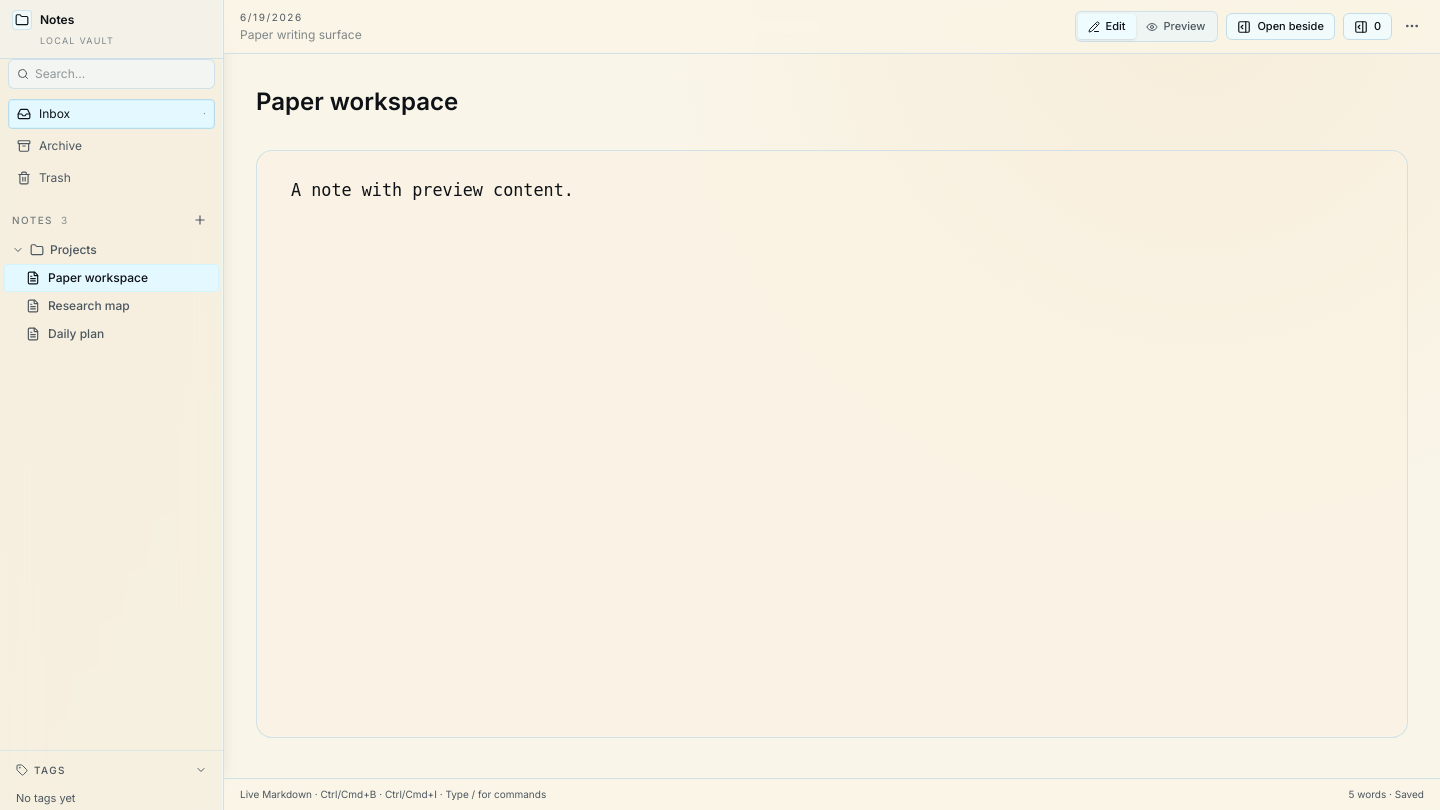
Scenario: NotesPage › applies note lifecycle actions to the active split pane
Expected: the field showing "Paper workspace" is shown, [256,86,1408,118]
Right-click the button "Research map" at (112, 306), box [4,292,219,320]
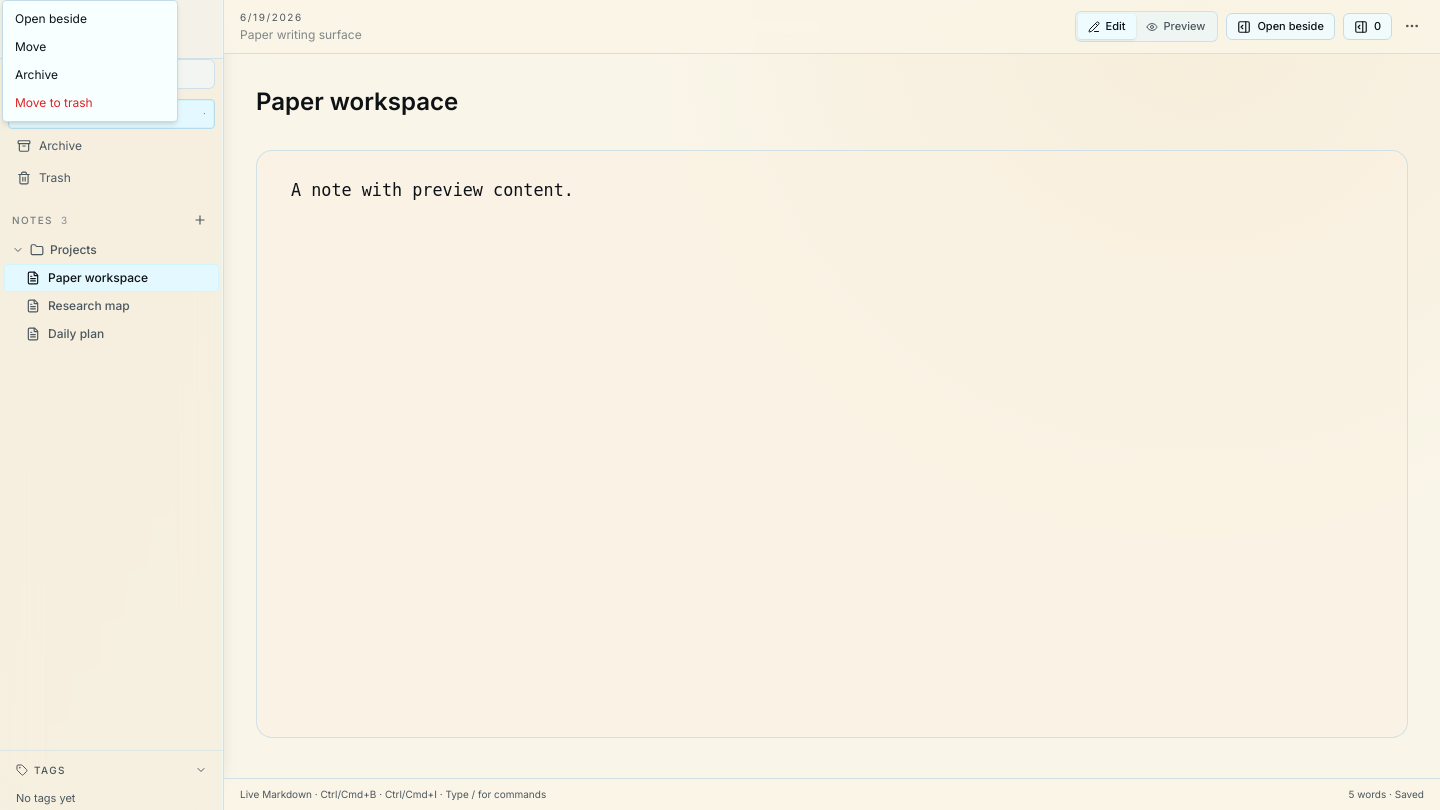
Click the menu item "Open beside". click: (51, 18)
box: [15,11,87,26]
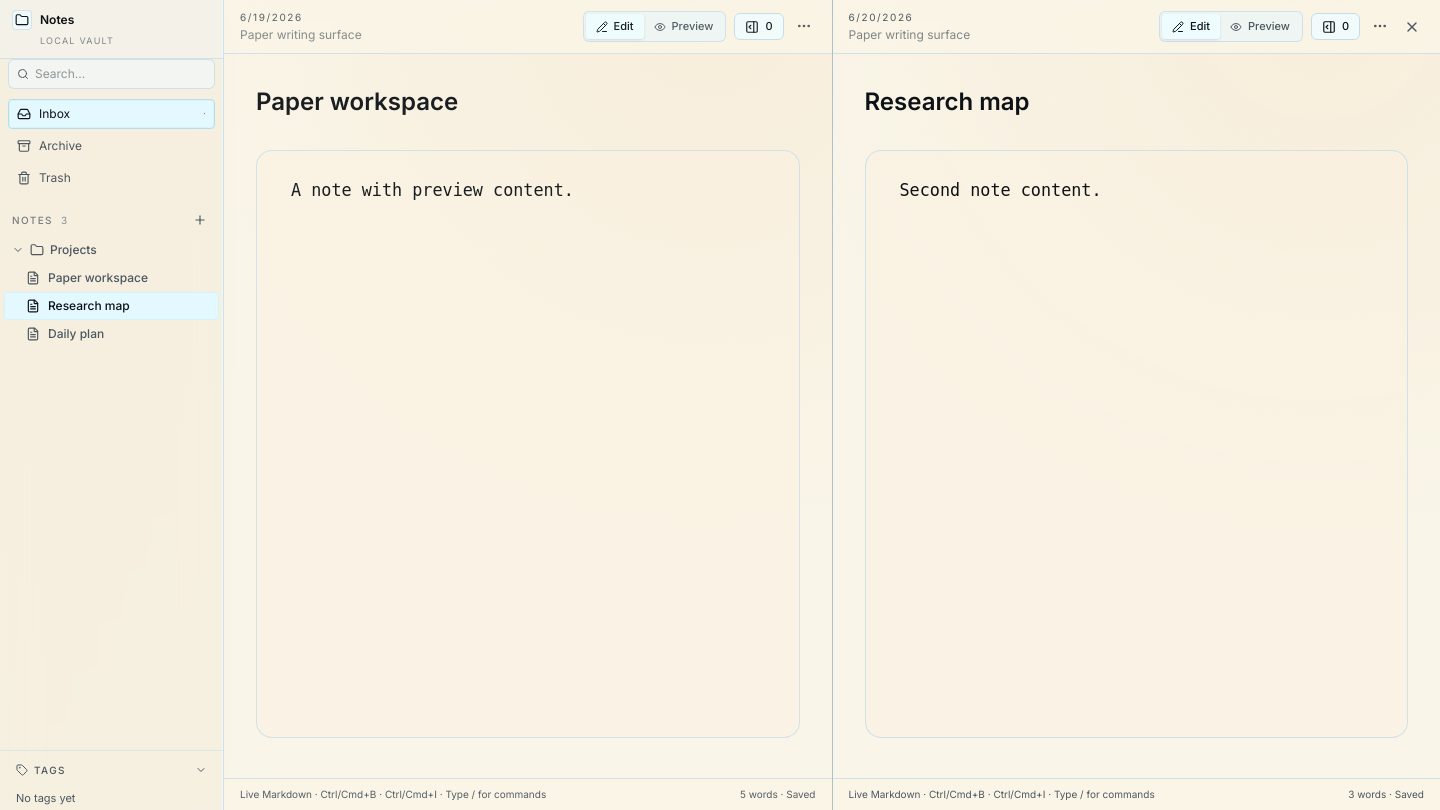
Click the button named "Note actions" in the row of "6/20/2026". click: (1380, 26)
box: [1368,14,1392,38]
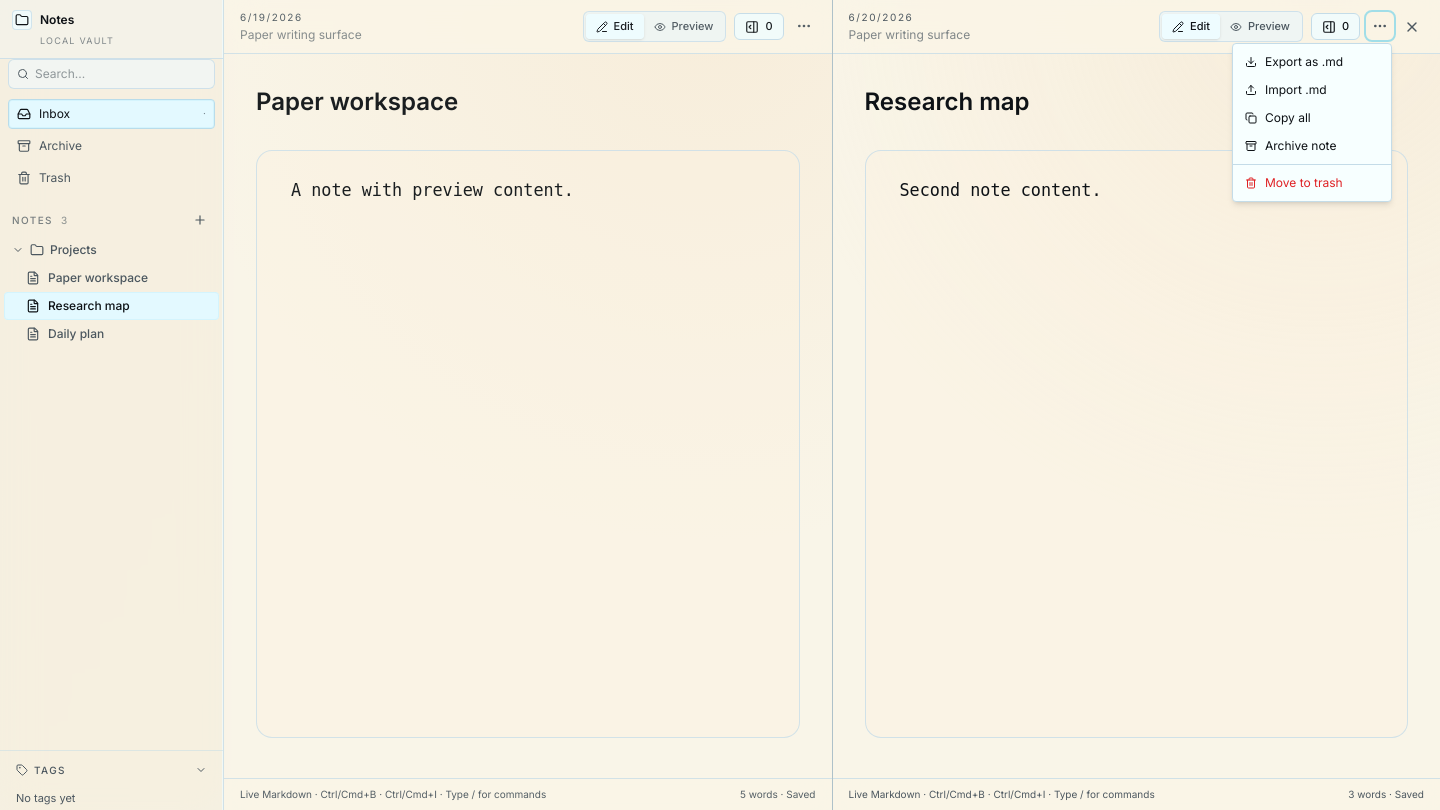
Click the button "Archive note". click: (1312, 146)
box: [1233,132,1391,160]
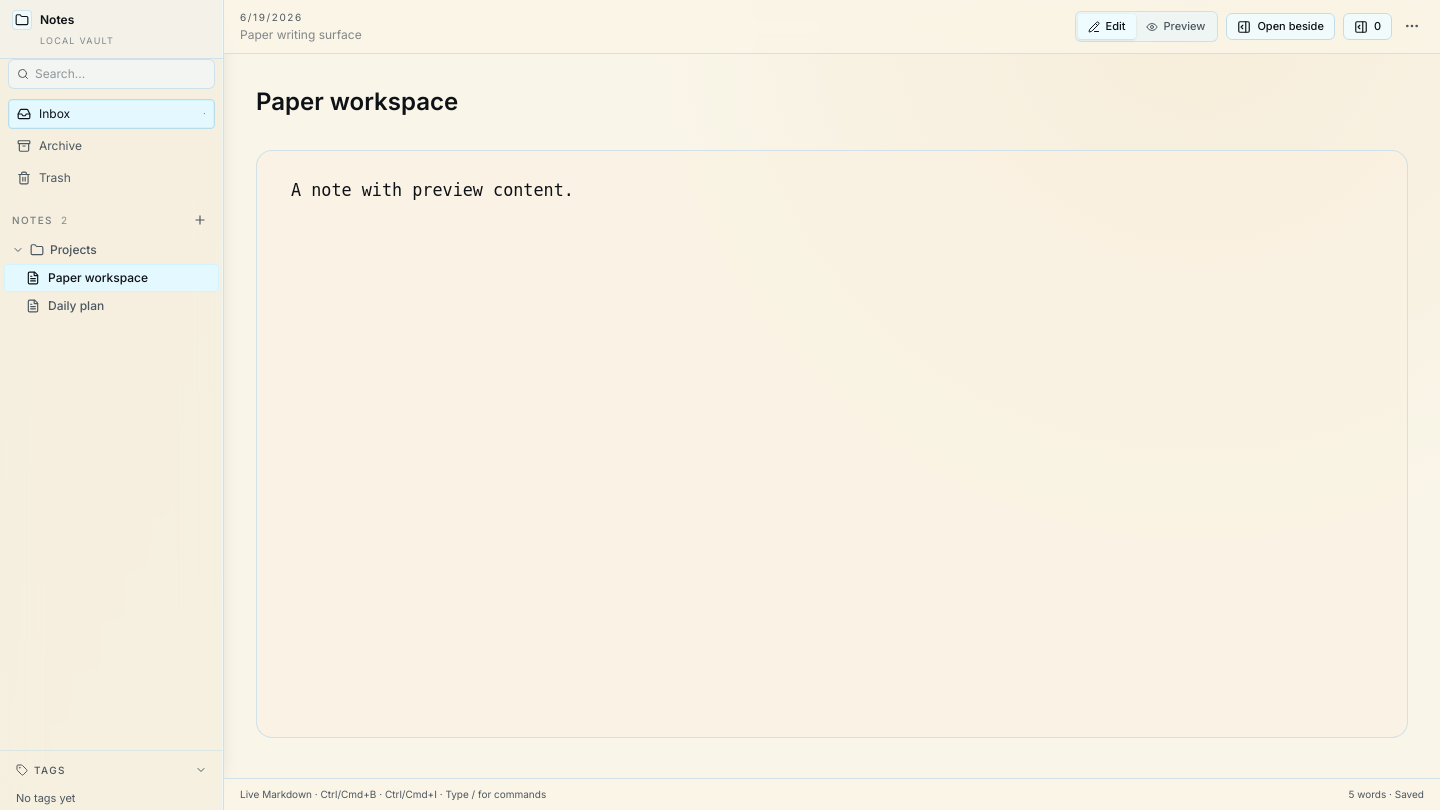
Expected: the button showing "Research map" is gone
